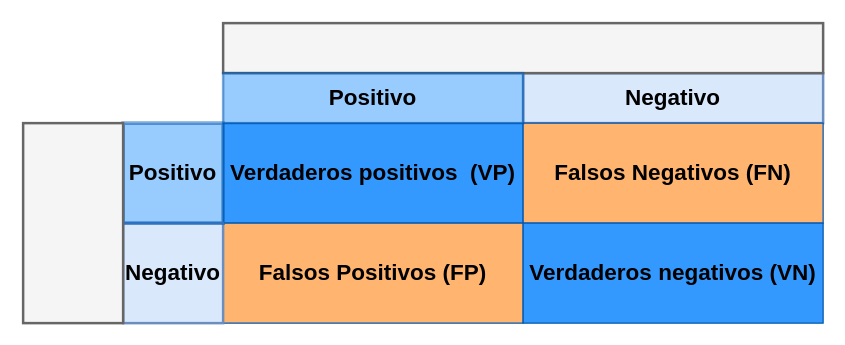
The diagram is 845 pixels wide and 345 high, and some of its shapes have lost their labels. The centre of each missing label's shape, as x and y in pixels:
"Predicción del modelo" belongs at (522,47).
"Valores observados" belongs at (72,222).
